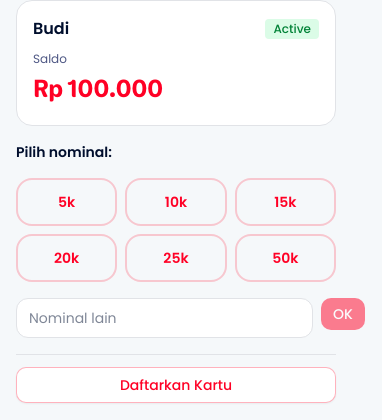
Test: KioskSection - ready phase (tap step) › transitions to confirm step via custom amount + OK
The width and height of the screenshot is (382, 420).
Type "7500" into the number field with placeholder "Nominal lain" at (164, 318), box [16,298,313,338]
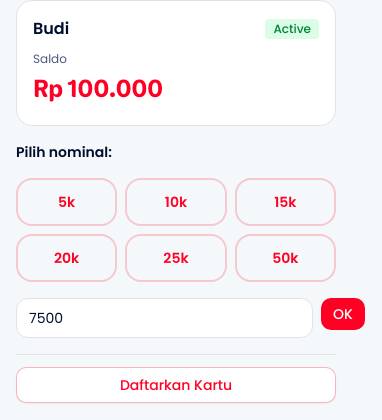
Click the button "OK" at (343, 314), box [321,298,365,330]
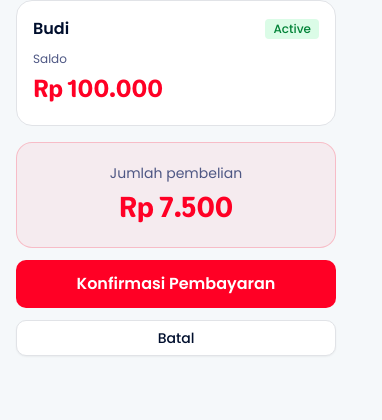
Expected: the button "Konfirmasi Pembayaran" is shown, [16,260,336,308]
